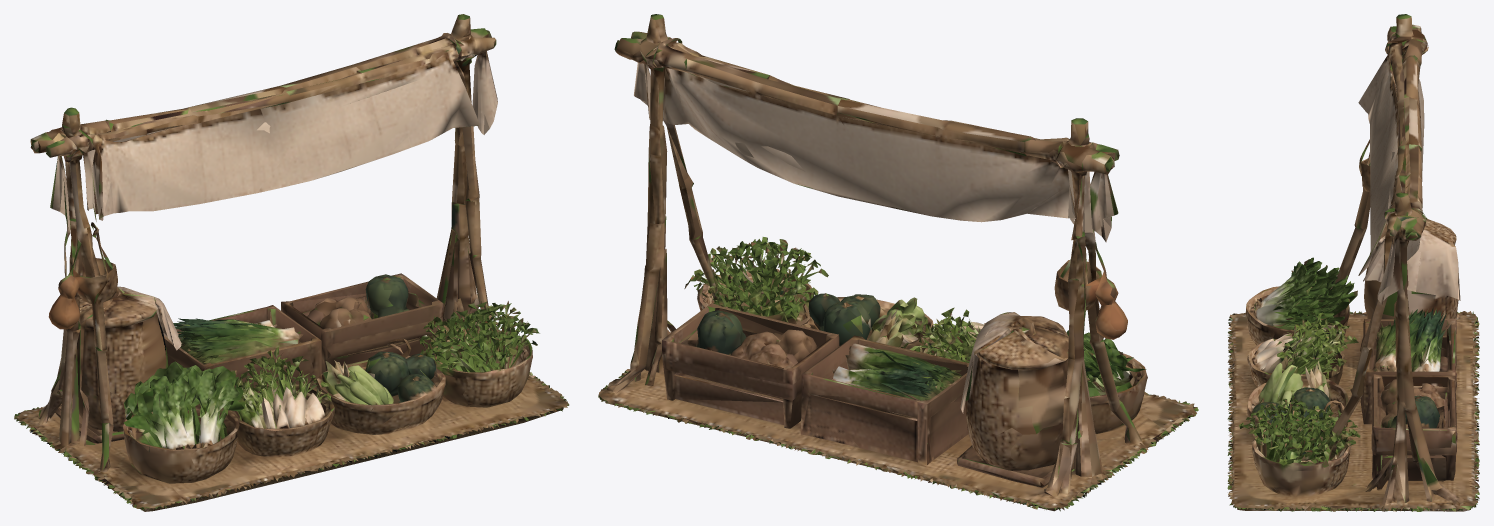
The model's file is 02_Ground_Cloth_Vegetable_Stall_LOD1.fbx.
3 views of the same model, side by side, from view 1: azimuth 30°, elevation 25°; view 2: azimuth 150°, elevation 25°; view 3: azimuth 270°, elevation 25° (orthographic). The views are drawn at different scales.
Parts seen in each view (by area): view 1: 02_Ground_Cloth_Vegetable_Stall_L1; view 2: 02_Ground_Cloth_Vegetable_Stall_L1; view 3: 02_Ground_Cloth_Vegetable_Stall_L1.
Part boxes in pixels (x1,y1,x2,y2): 02_Ground_Cloth_Vegetable_Stall_L1: [14, 14, 569, 511]; 02_Ground_Cloth_Vegetable_Stall_L1: [598, 14, 1198, 511]; 02_Ground_Cloth_Vegetable_Stall_L1: [1227, 14, 1479, 511].
Bounding box in the file's own units: 3.29 × 2.3 × 1.68.
